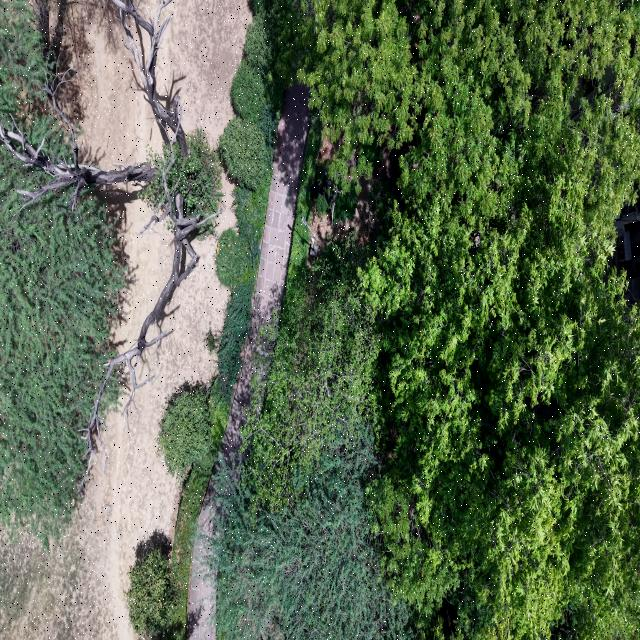DRY_AREA: (0, 239, 229, 639), (222, 82, 309, 458)
PATHWAYS: (222, 82, 309, 454)
VEGETATION_TREE: (170, 0, 639, 639), (213, 1, 639, 639), (361, 1, 639, 639), (0, 1, 221, 545), (0, 2, 219, 539), (0, 0, 218, 481), (159, 1, 290, 639), (211, 246, 409, 639), (214, 246, 406, 636), (0, 145, 124, 545), (0, 149, 124, 543), (211, 429, 410, 639), (241, 245, 378, 509), (212, 0, 290, 414), (288, 1, 422, 224), (297, 0, 423, 191), (159, 385, 227, 639), (214, 173, 270, 408), (220, 2, 283, 190), (288, 110, 356, 276), (165, 447, 216, 639), (165, 128, 222, 238), (211, 282, 254, 420), (288, 113, 321, 280), (158, 385, 213, 477), (126, 548, 176, 637), (221, 108, 274, 190), (216, 228, 252, 289), (205, 329, 218, 353)
